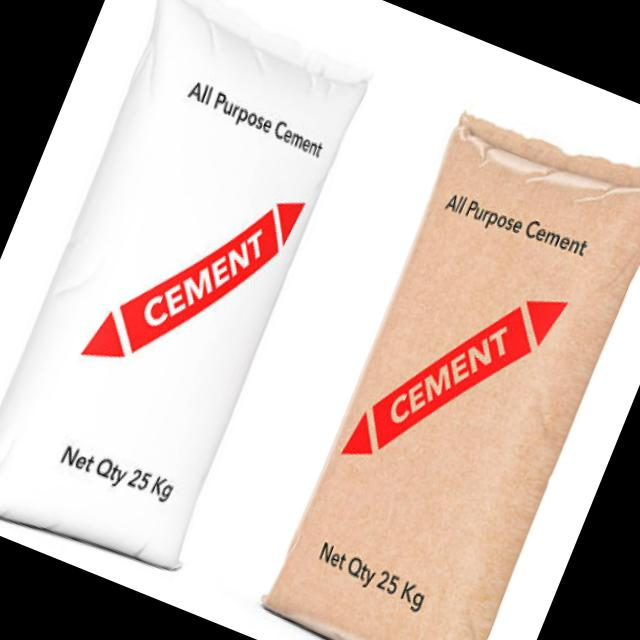KantongSemen: (0, 0, 387, 590), (249, 82, 640, 640)
